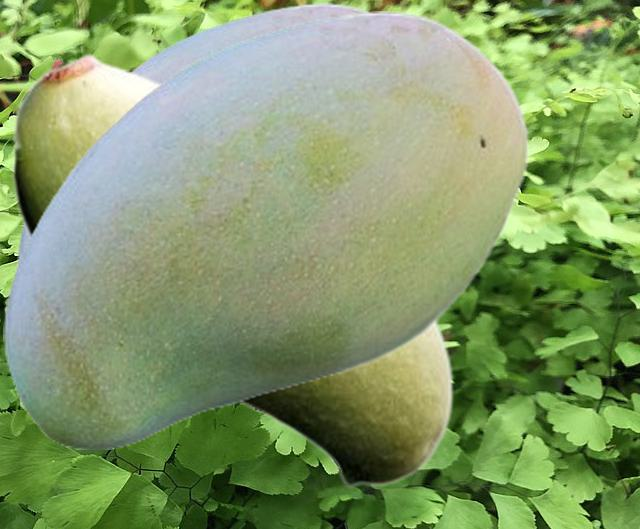green_mango: (3, 11, 529, 448), (11, 51, 453, 488), (17, 3, 374, 262)
